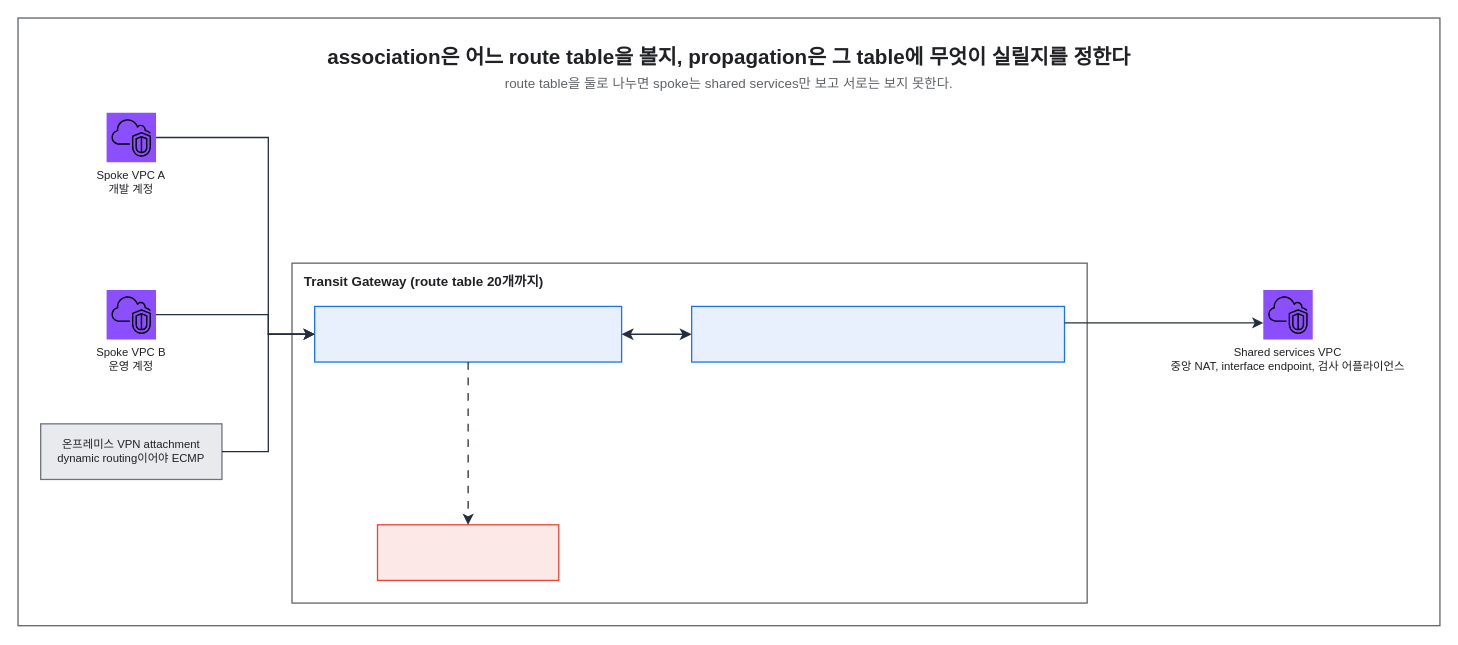
Some shapes in this 1458 by 645 pixel diagram are drawn without their labels. Here are the shapes that lost their labels. From the top down, the centre of each, then its label:
pixel 468 333: Spoke route table association: spoke와 VPN. shared VPC 라우트만 보유
pixel 878 333: Shared route table association: shared VPC. 모든 attachment 라우트를 propagate
pixel 467 552: Blackhole route spoke 사이 CIDR을 드롭
